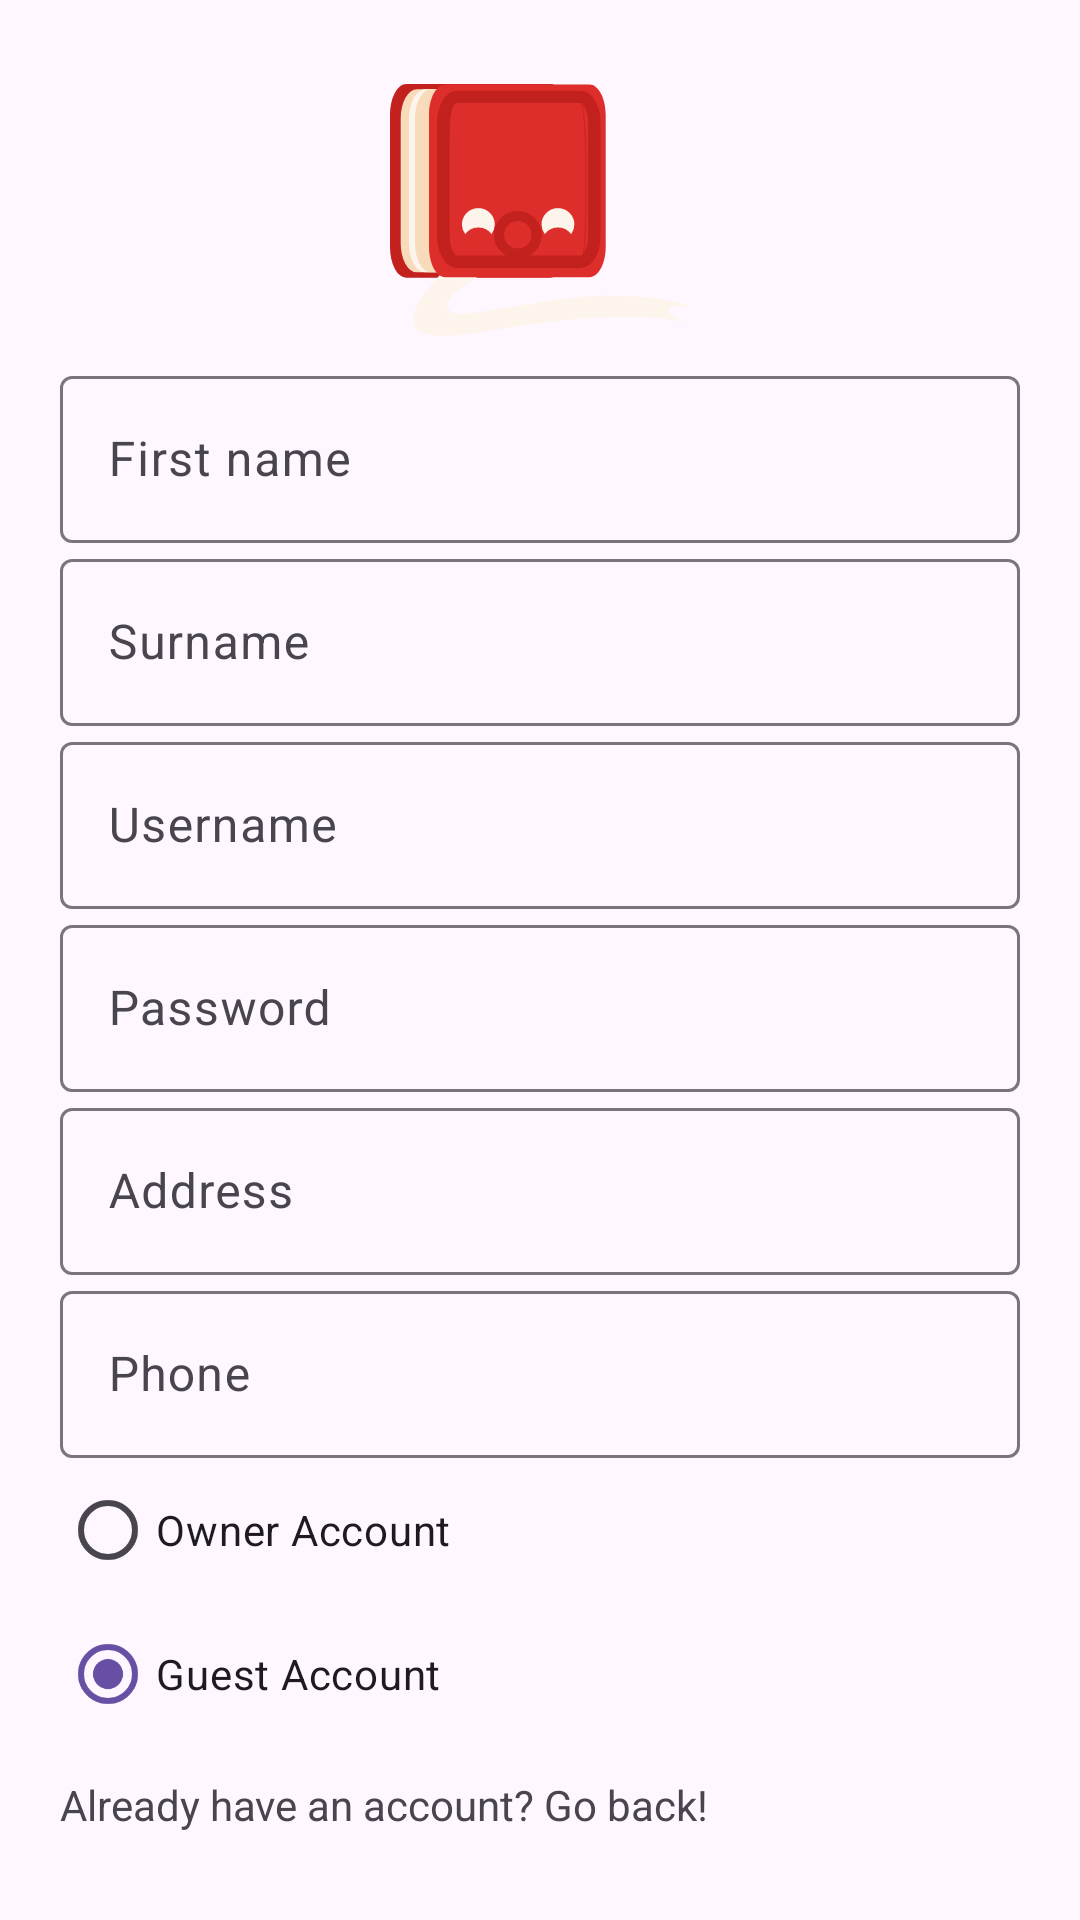

Locate icon controls on the screen. Image size 1080x1920, boxes as (x1, y1, x2, y2).
bookie: (390, 84, 606, 278)
